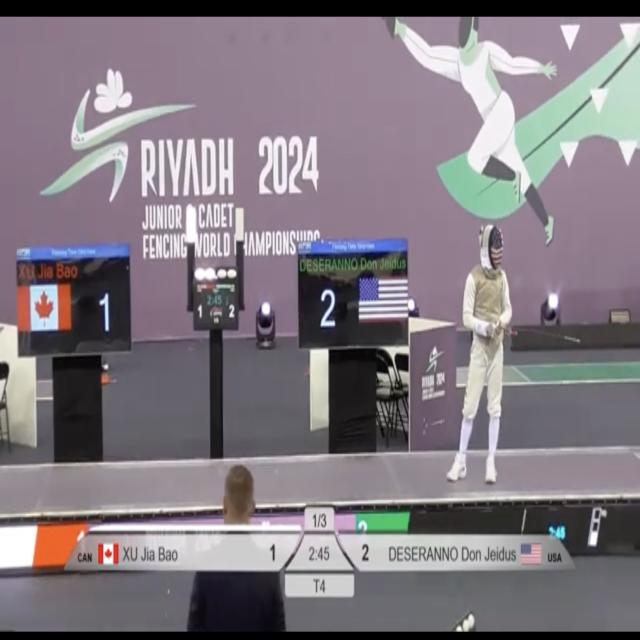fencer: (445, 211, 513, 485)
overlayLeft: (62, 532, 256, 573)
overlayRight: (381, 534, 577, 574)
scoreLeft: (261, 534, 301, 571)
scoreRight: (335, 534, 377, 575)
